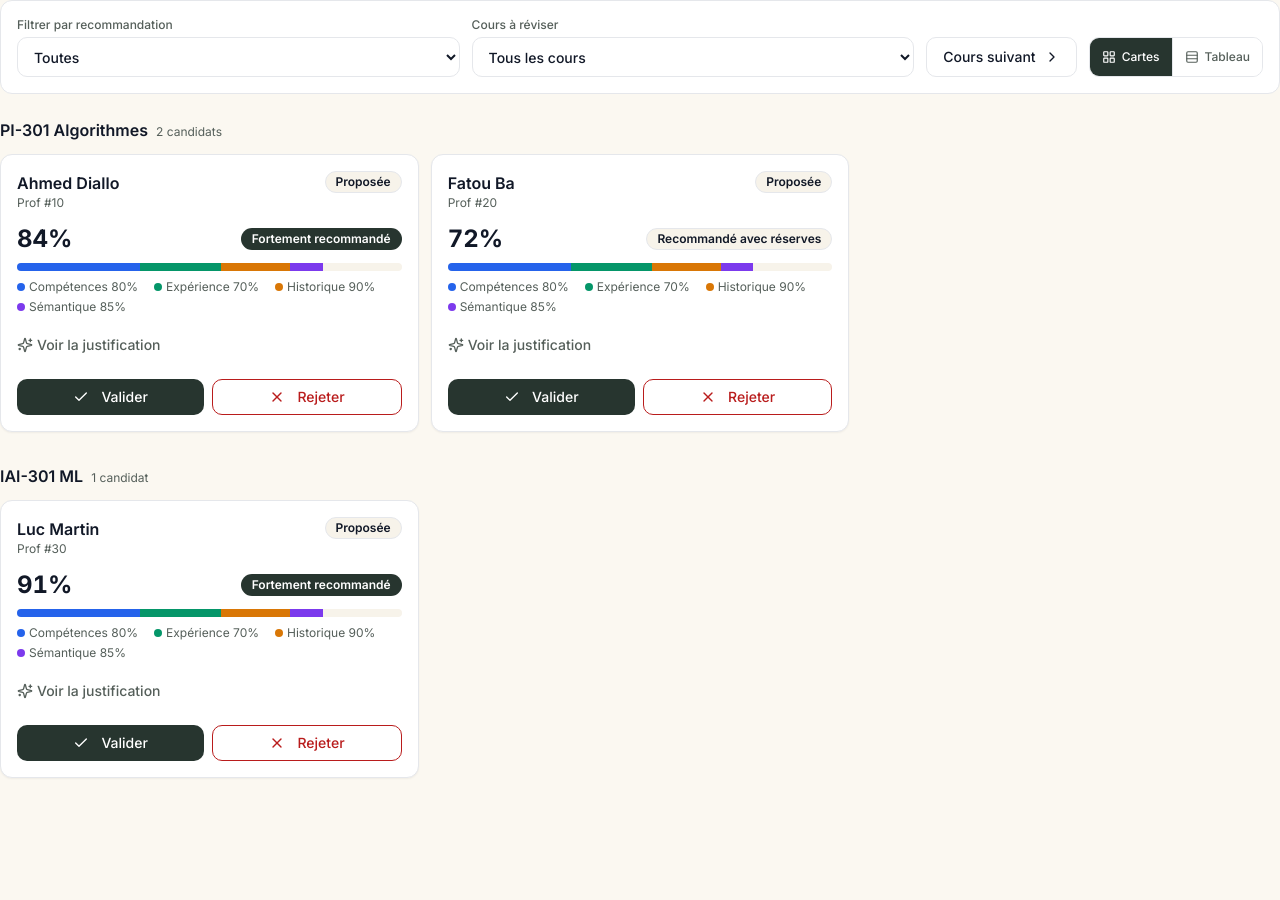
AffectationTable › ouvre la justification dans le panneau détaillé unifié (vue cartes)
The image size is (1280, 900).
Click the button "Voir la justification" below "84" at x=99, y=344, box 17,327 -> 402,363
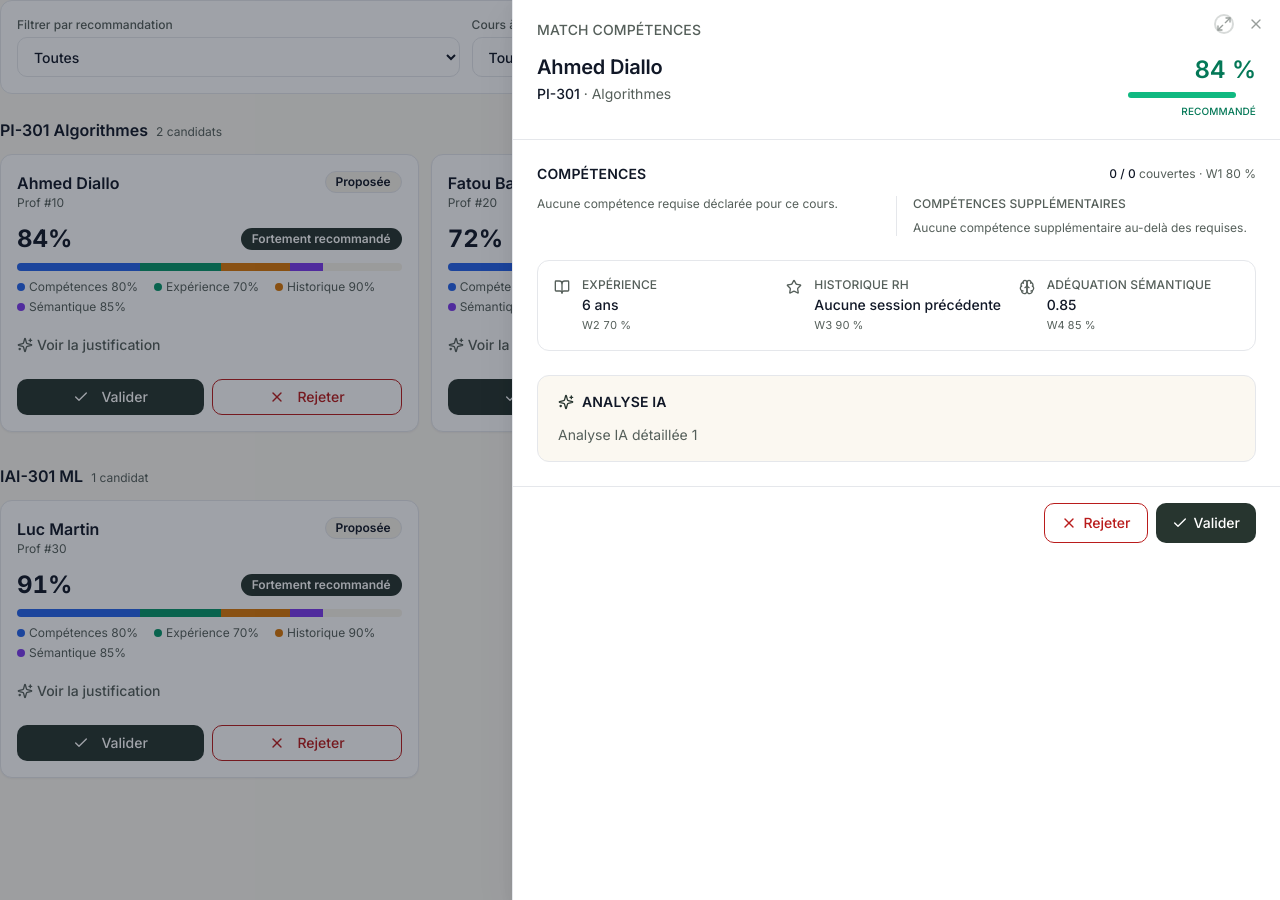
Now the dialog is shown, box 512,0 -> 1279,899
Now the heading "Match compétences" is shown, box 537,21 -> 701,38
Now the text "Analyse IA détaillée 1" is shown, box 558,426 -> 697,442
